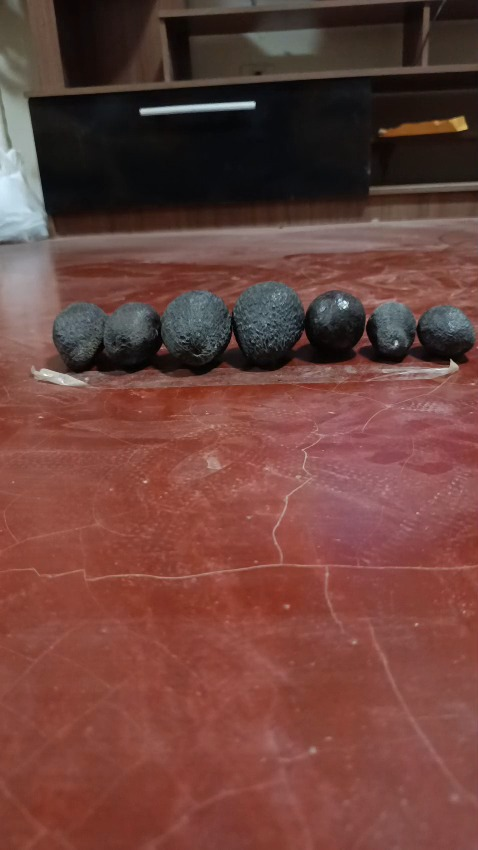Primera: (233, 281, 306, 367), (160, 290, 232, 369)
Segunda: (305, 291, 366, 360), (51, 302, 106, 369), (104, 302, 162, 365)
Tercera: (418, 306, 476, 358), (367, 301, 418, 358)
